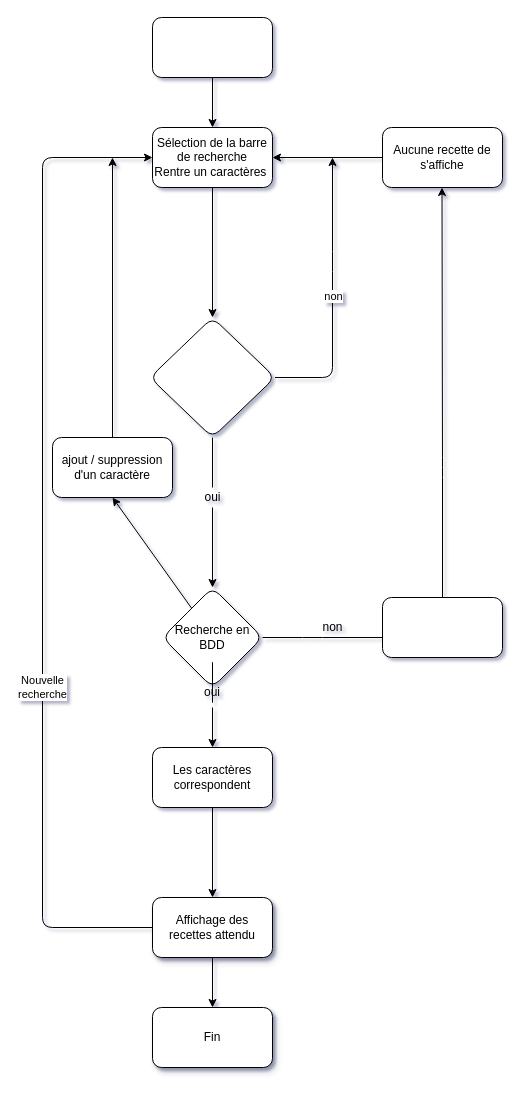
Some shapes in this 526 by 1098 pixel diagram are drawn without their labels. Here are the shapes that lost their labels. From the top down, the centre of each, then its label:
At point 212,47: "Début".
At point 212,377: "mot clé rentrer > 3 caractères".
At point 442,627: "Pas de concordances".
